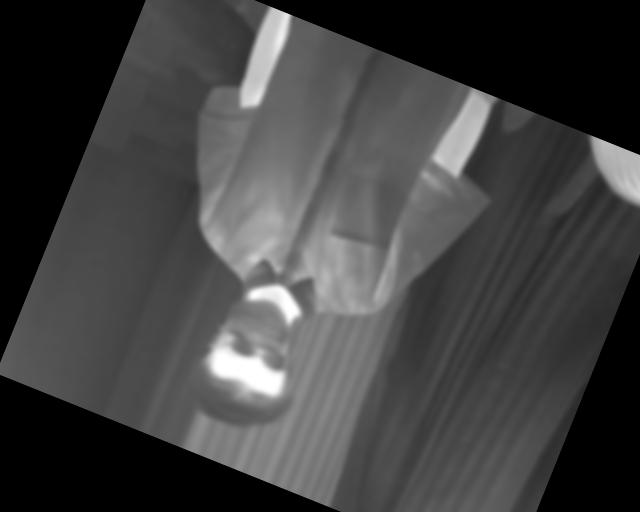face: (22, 153, 254, 412), (408, 17, 545, 173)
